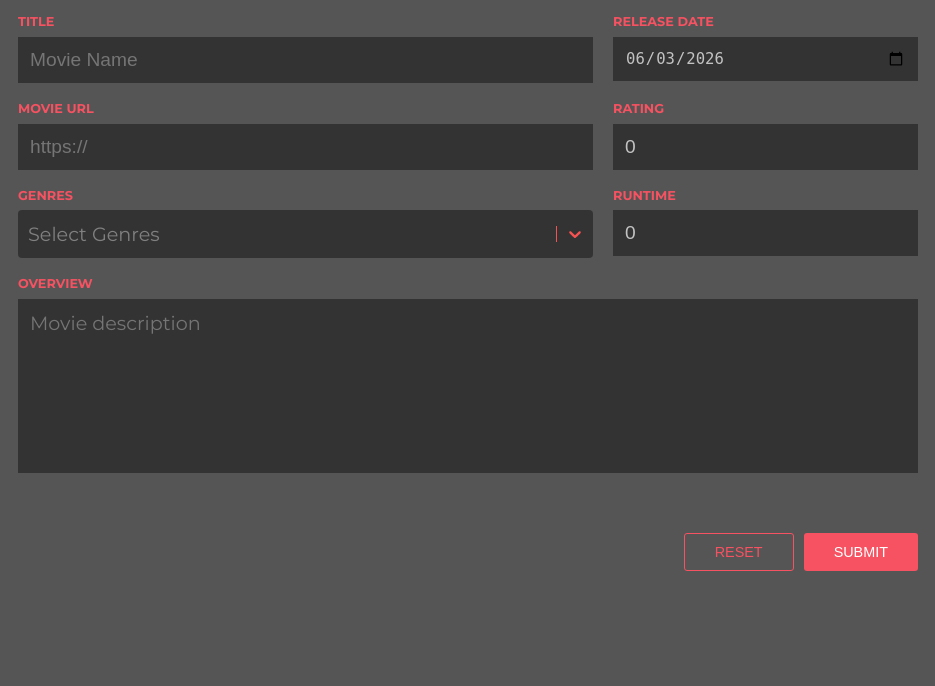
Test: MovieForm › validates form data and shows error messages
Click the button "Submit". click: point(861, 552)
box: [804,533,918,571]
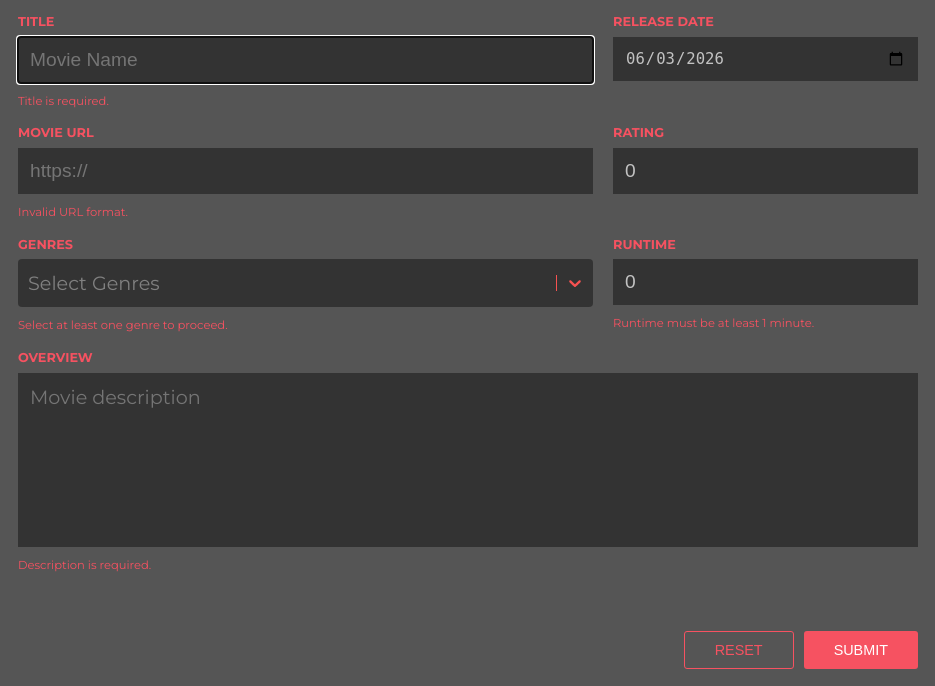
Expected: the text "Title is required." is shown, [18,94,109,108]
Expected: the text "Invalid URL format." is shown, [18,205,128,219]
Expected: the text "Select at least one genre to proceed." is shown, [18,318,228,332]
